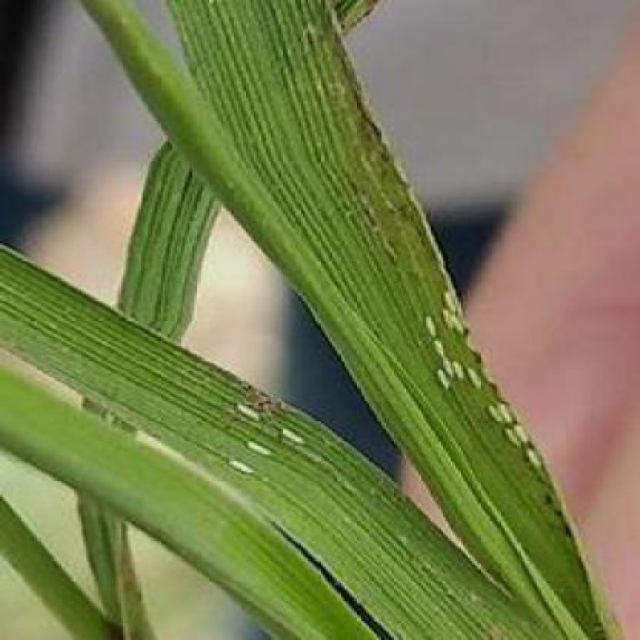whorl-maggot: (242, 432, 276, 468), (278, 422, 311, 452), (232, 398, 268, 425), (438, 306, 470, 334), (484, 402, 518, 428), (228, 454, 260, 481), (426, 365, 451, 392), (416, 312, 441, 337), (497, 426, 526, 446), (423, 338, 454, 356), (462, 367, 484, 390), (441, 287, 459, 310), (525, 450, 543, 468), (438, 357, 454, 375)
